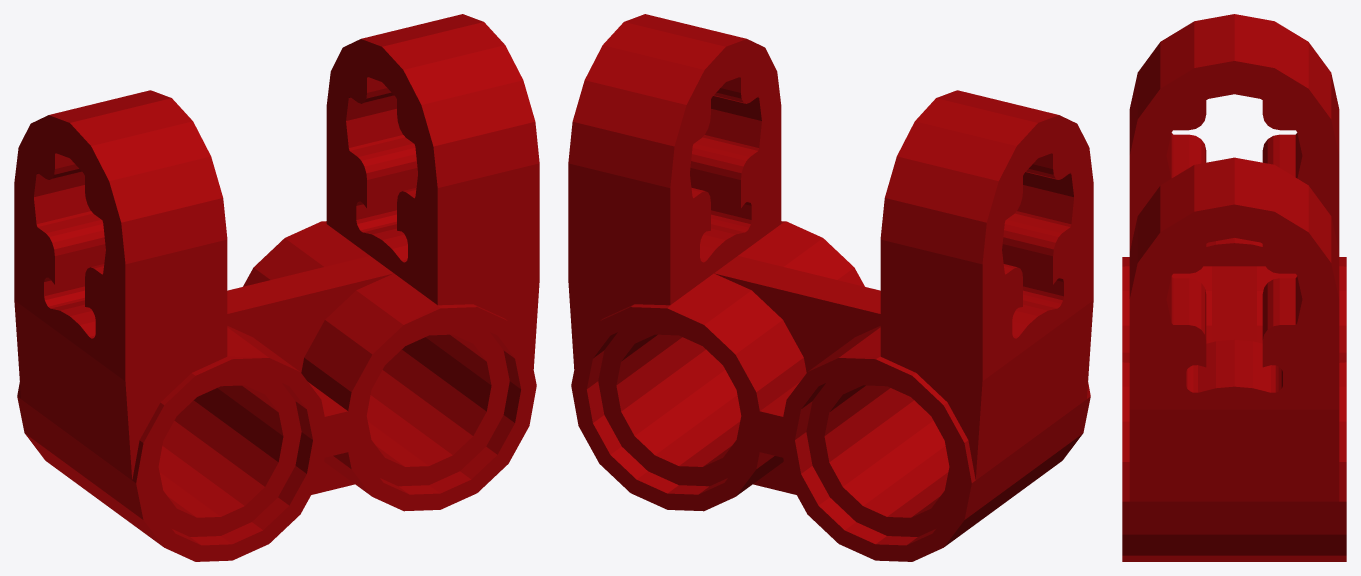
Rendered from 41678 Cross Block Fork 2x2.dae.
The picture shows the model from 3 angles, left to right: view 1: azimuth 30°, elevation 25°; view 2: azimuth 150°, elevation 25°; view 3: azimuth 270°, elevation 25°; orthographic projection. The views are drawn at different scales.
Parts seen in each view (by area): view 1: Part_41678.1; view 2: Part_41678.1; view 3: Part_41678.1.
Part boxes in pixels (bbox=[...]): Part_41678.1: bbox=[14, 14, 539, 561]; Part_41678.1: bbox=[568, 14, 1093, 561]; Part_41678.1: bbox=[1122, 14, 1346, 561].
Bounding box in the file's own units: 15.92 × 15.4 × 7.92.
